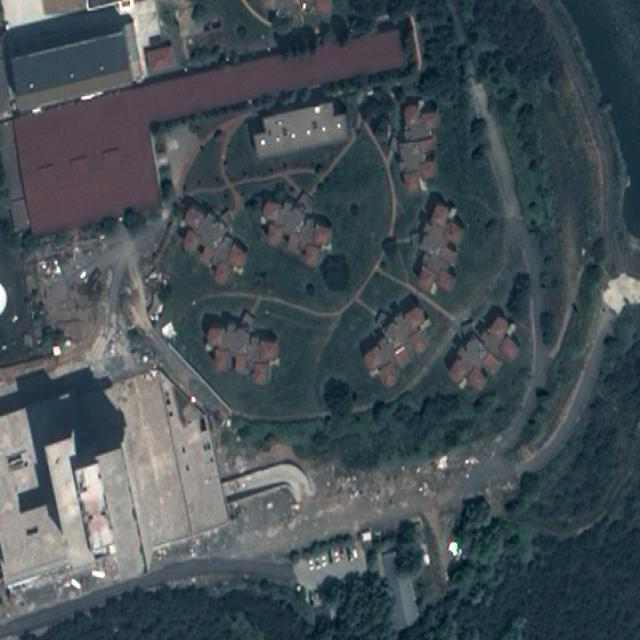Batiment: (14, 30, 406, 234), (2, 6, 144, 111), (252, 102, 349, 158), (402, 99, 422, 128), (404, 302, 425, 327), (228, 245, 246, 274), (379, 363, 398, 388), (364, 346, 381, 373), (418, 265, 435, 292), (212, 262, 231, 286), (182, 229, 200, 253), (251, 363, 270, 385), (265, 223, 281, 247), (394, 346, 410, 369), (260, 342, 279, 361), (205, 327, 224, 346), (314, 224, 331, 245), (438, 271, 455, 292), (185, 208, 201, 230), (214, 349, 229, 372), (262, 202, 280, 221), (440, 247, 458, 263), (199, 247, 214, 266), (234, 352, 246, 375), (288, 232, 300, 251)
